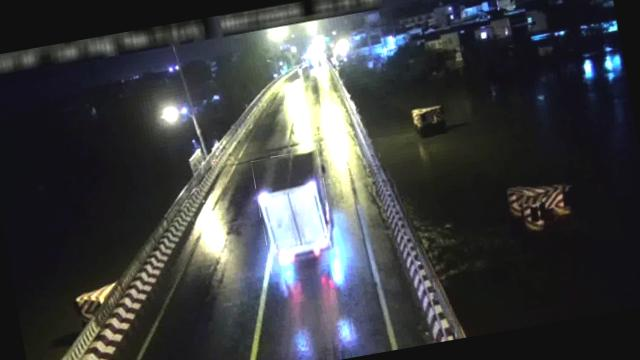Truck: (252, 148, 338, 274)
